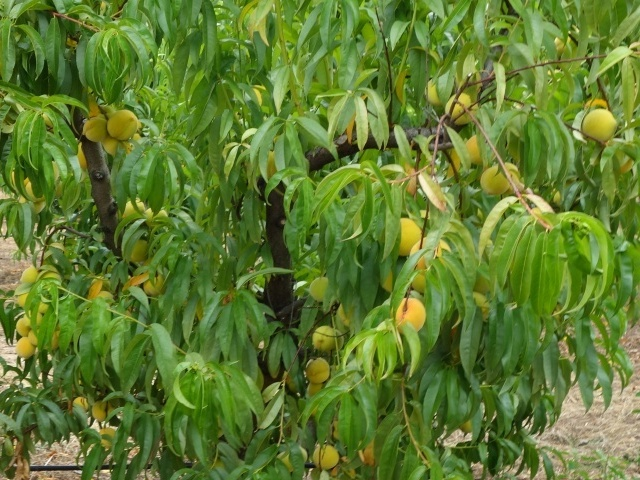peach: (387, 292, 431, 340), (407, 231, 453, 270), (390, 213, 428, 259), (579, 106, 620, 147), (440, 89, 481, 126), (103, 107, 140, 142), (477, 162, 511, 198), (308, 440, 342, 474), (301, 353, 334, 387), (308, 321, 339, 355), (462, 132, 489, 169), (122, 237, 154, 268), (80, 114, 111, 145), (420, 78, 448, 111), (138, 272, 167, 303), (404, 269, 433, 299), (305, 274, 334, 303), (86, 396, 114, 425), (143, 203, 171, 230), (11, 336, 39, 363), (98, 131, 124, 158), (93, 424, 119, 450), (16, 264, 41, 289), (299, 377, 326, 400), (26, 324, 47, 352), (11, 313, 35, 337), (21, 308, 45, 331), (70, 393, 93, 415), (12, 288, 33, 310)
